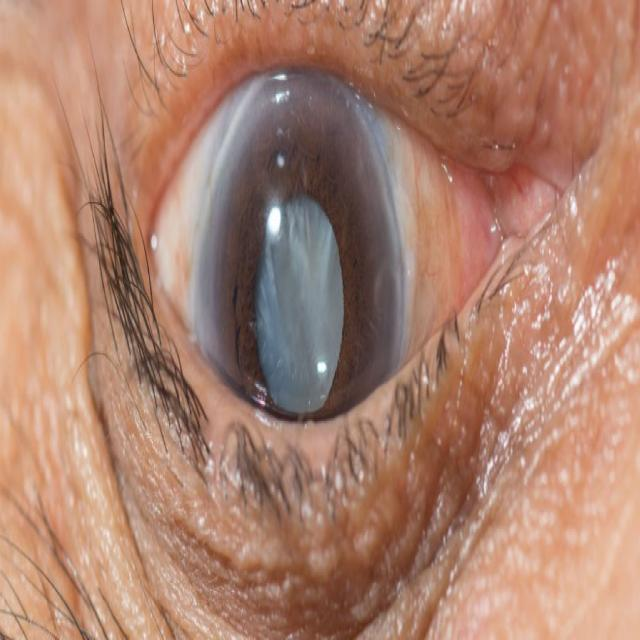Cataract: (190, 64, 408, 555)
